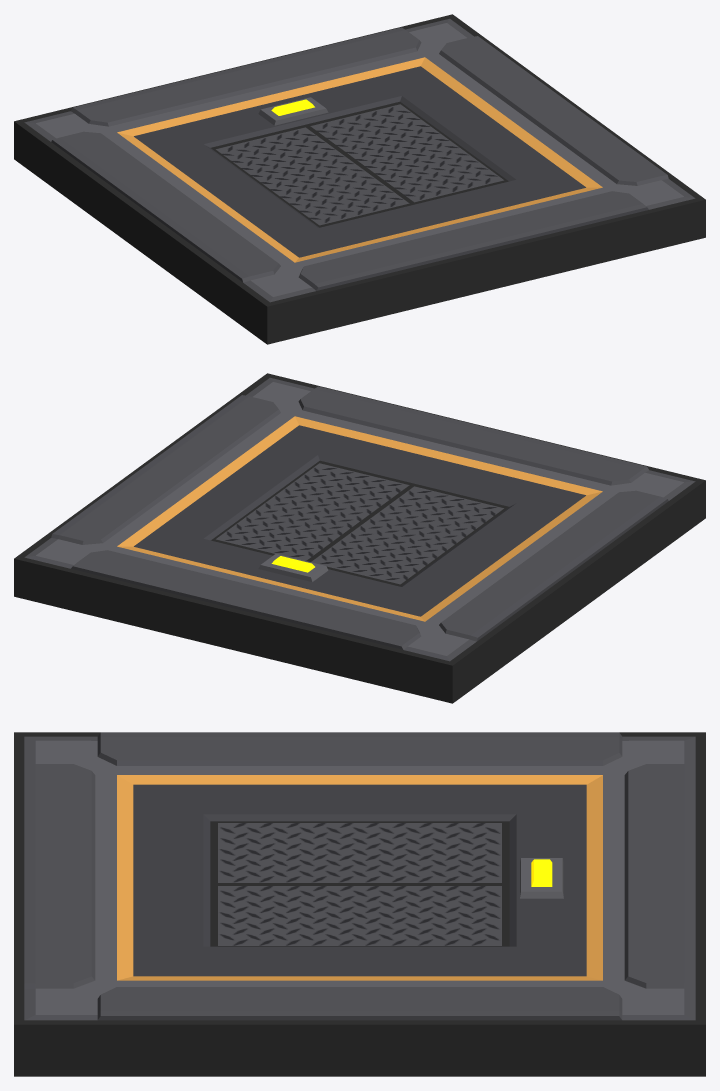
File: SM_Bld_Floor_Small_01.fbx
3 renders of one model, top to bottom at view 1: azimuth 30°, elevation 25°; view 2: azimuth 150°, elevation 25°; view 3: azimuth 270°, elevation 25°, orthographic. The views are drawn at different scales.
Visible parts, largest first — view 1: SM_Bld_Floor_Small_01_LOD0; view 2: SM_Bld_Floor_Small_01_LOD0; view 3: SM_Bld_Floor_Small_01_LOD0.
Part boxes in pixels (box(x1,y1,x2,y2)): SM_Bld_Floor_Small_01_LOD0: box(14, 14, 705, 344); SM_Bld_Floor_Small_01_LOD0: box(14, 373, 705, 703); SM_Bld_Floor_Small_01_LOD0: box(14, 732, 705, 1076).
Size of the model in its own units: 250 by 250 by 24.2.
Materials: 1 (1 with a texture image).
